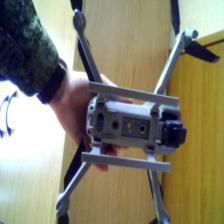drone: (54, 0, 201, 224)
